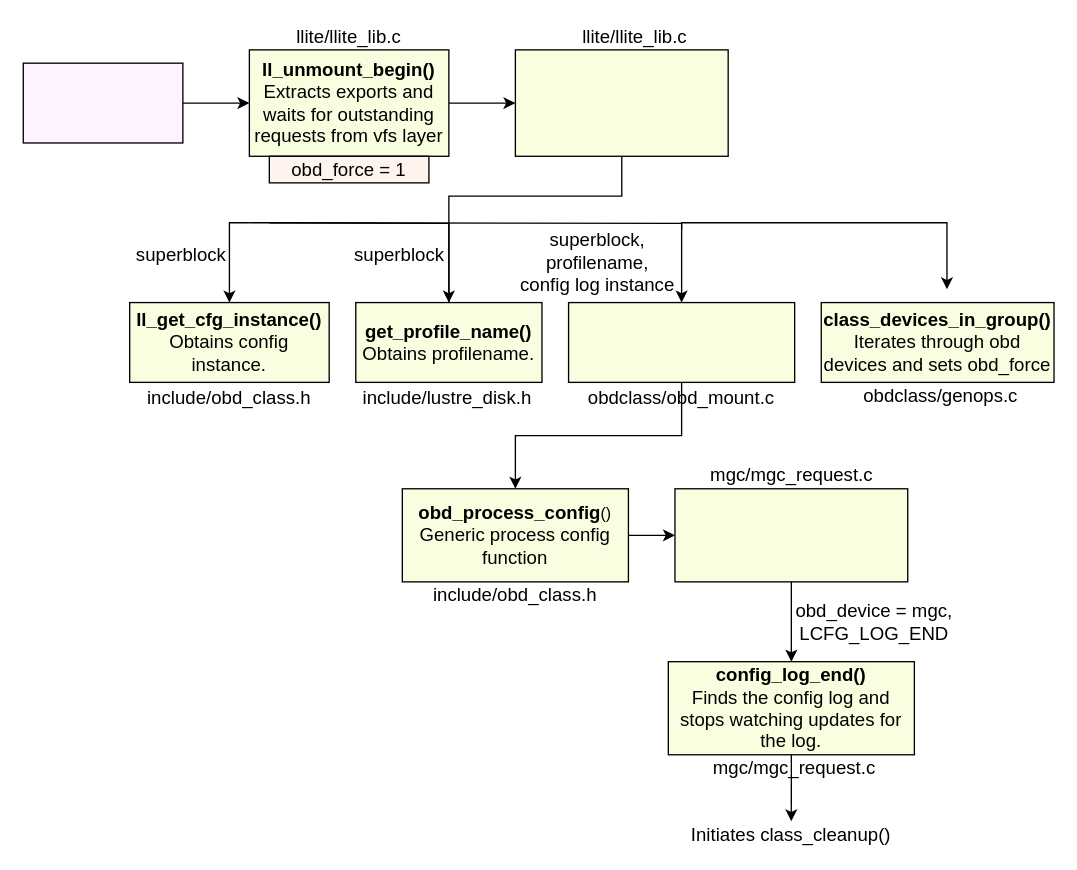
Image size: 1077x870. Some labels were removed from this diagram. Here are the shapes that lost their labels. From the top down, the centre of each, then its label:
(x=102, y=102): unmount() system call
(x=621, y=102): ll_put_super() Obtains config instance and profilename and initiates cleanup.
(x=681, y=341): lustre_end_log() Stops following updates for the config log instance.
(x=791, y=534): mgc_process_config() Initiates termination of config log for the obd device.
